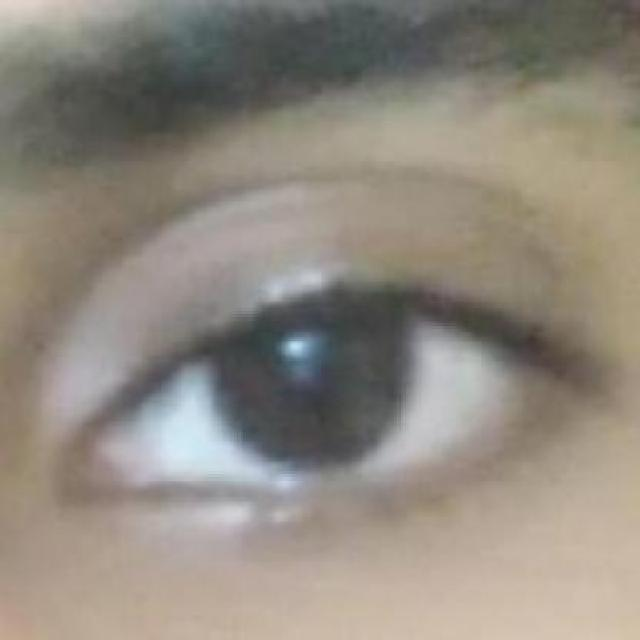awake: (50, 216, 572, 542)
